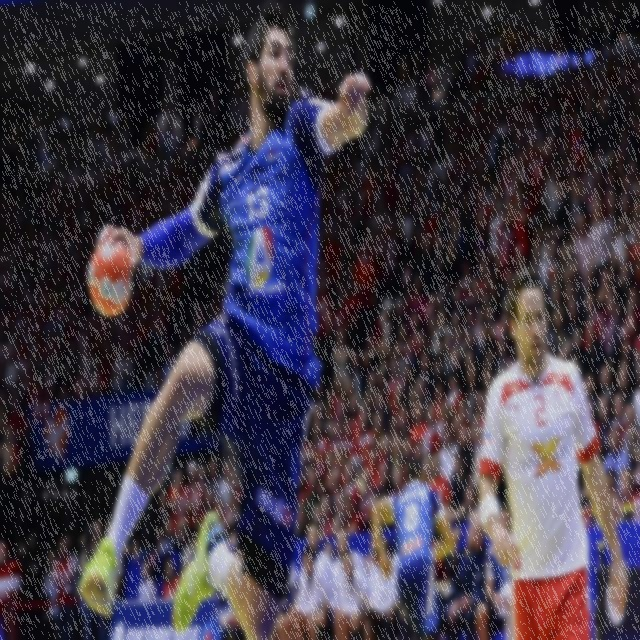pessoa: (76, 1, 372, 639), (476, 265, 630, 639), (320, 144, 516, 358), (0, 91, 87, 395), (378, 52, 638, 140), (546, 144, 638, 358), (369, 453, 459, 639), (298, 361, 370, 532), (90, 104, 195, 214), (90, 269, 182, 389), (152, 456, 242, 554), (1, 398, 36, 638), (422, 358, 478, 489), (286, 519, 336, 639), (442, 517, 488, 639), (593, 401, 639, 522), (474, 503, 514, 639), (328, 523, 371, 639), (371, 361, 406, 498), (368, 539, 406, 639), (292, 543, 330, 639), (78, 519, 108, 639), (518, 144, 546, 272), (196, 82, 252, 146), (183, 262, 230, 338), (336, 550, 375, 639), (50, 538, 76, 639), (270, 553, 298, 639), (578, 360, 638, 400), (112, 532, 140, 604), (406, 358, 422, 453), (42, 541, 56, 633), (434, 556, 457, 600), (161, 556, 181, 604), (576, 466, 592, 526), (436, 492, 476, 514), (478, 358, 511, 384), (138, 558, 158, 598), (479, 383, 489, 451), (102, 516, 112, 534)
